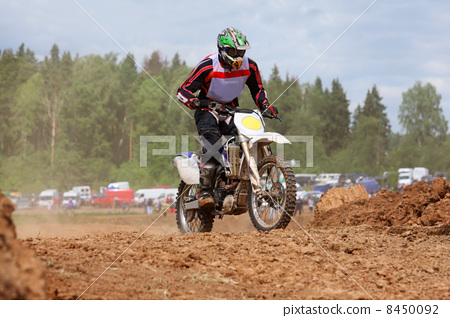helmet: (213, 26, 255, 70)
